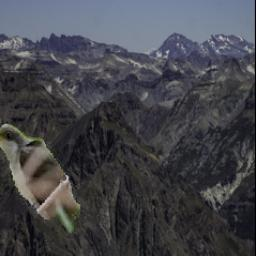Cuckoo: (0, 124, 79, 235)
